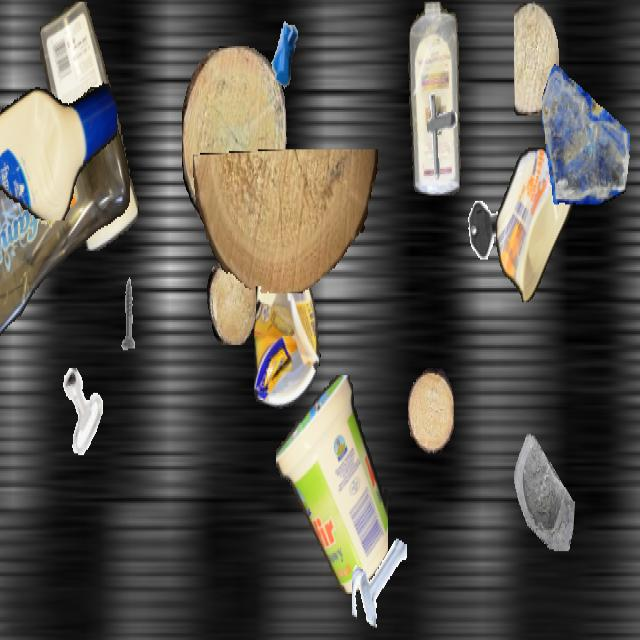glass: (542, 52, 630, 208), (501, 418, 575, 549)
metal: (257, 2, 311, 98), (352, 530, 406, 626), (412, 87, 466, 183), (57, 368, 105, 453), (466, 190, 508, 265), (107, 276, 149, 350), (14, 183, 52, 251)
plastic: (0, 83, 130, 364), (36, 2, 142, 250), (276, 375, 388, 596), (0, 64, 116, 220), (496, 147, 574, 300), (254, 235, 322, 409), (406, 2, 464, 194)
wood: (193, 150, 379, 292), (182, 46, 286, 231), (514, 1, 558, 116), (207, 258, 255, 343), (408, 368, 454, 453)
